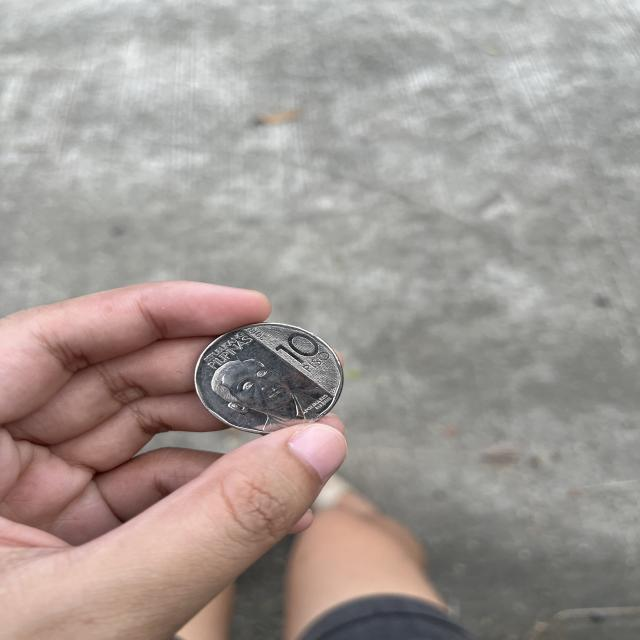10_New_Front: (273, 324, 339, 377)
